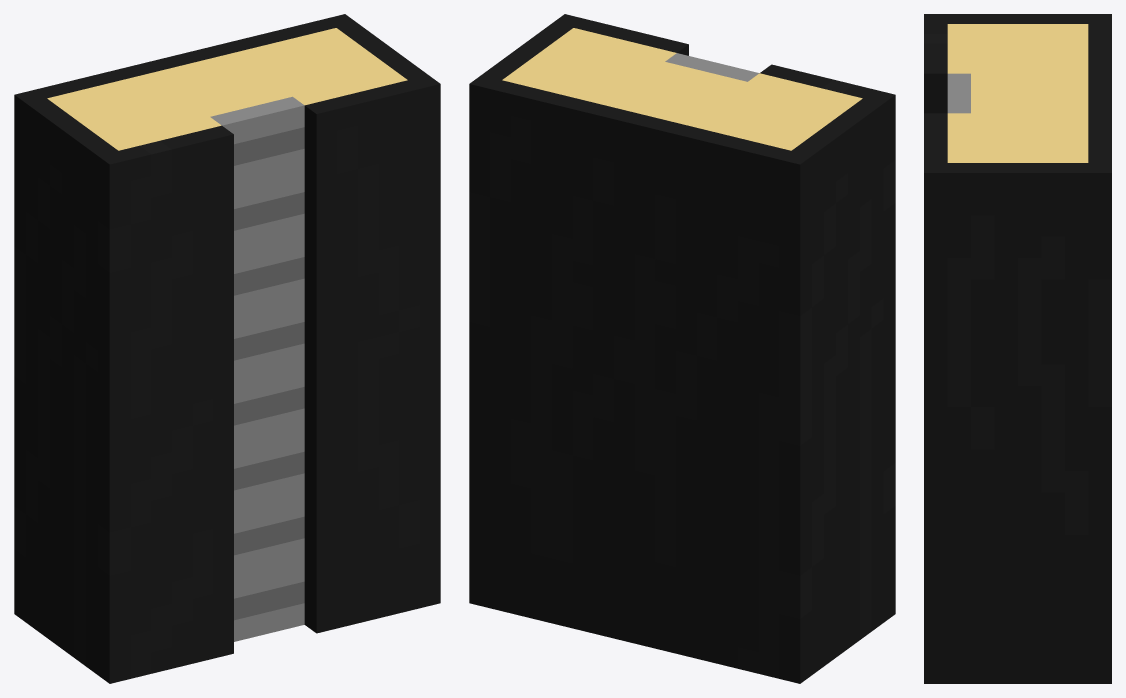
File: Bandit-4-Body.obj
The picture shows the model from 3 angles, left to right: view 1: azimuth 30°, elevation 25°; view 2: azimuth 150°, elevation 25°; view 3: azimuth 270°, elevation 25°; orthographic projection.
Visible parts, largest first — view 1: Body; view 2: Body; view 3: Body.
Part boxes in pixels (x1=…): Body: x1=14, y1=14, x2=440, y2=683; Body: x1=469, y1=14, x2=895, y2=683; Body: x1=924, y1=14, x2=1111, y2=683.
Size of the model in its own units: 1.6 by 2.4 by 0.8.
1 material, 1 textured.
